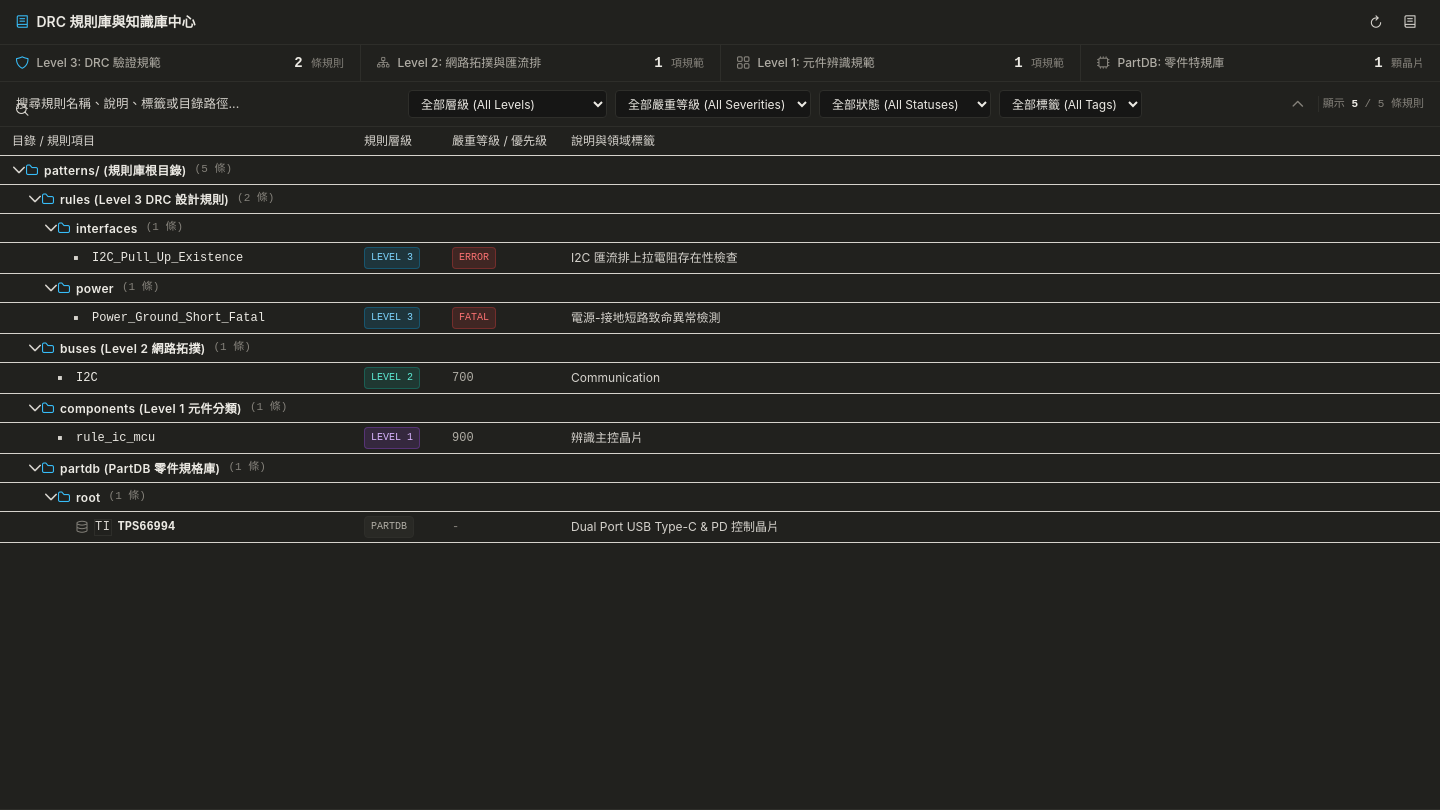
it: RuleManagementView.vue › 支援關鍵字搜尋過濾 Level 3 規則
The width and height of the screenshot is (1440, 810).
Type "Fatal" into the field with class "filter-search-input" at (208, 104), box [16, 96, 400, 112]
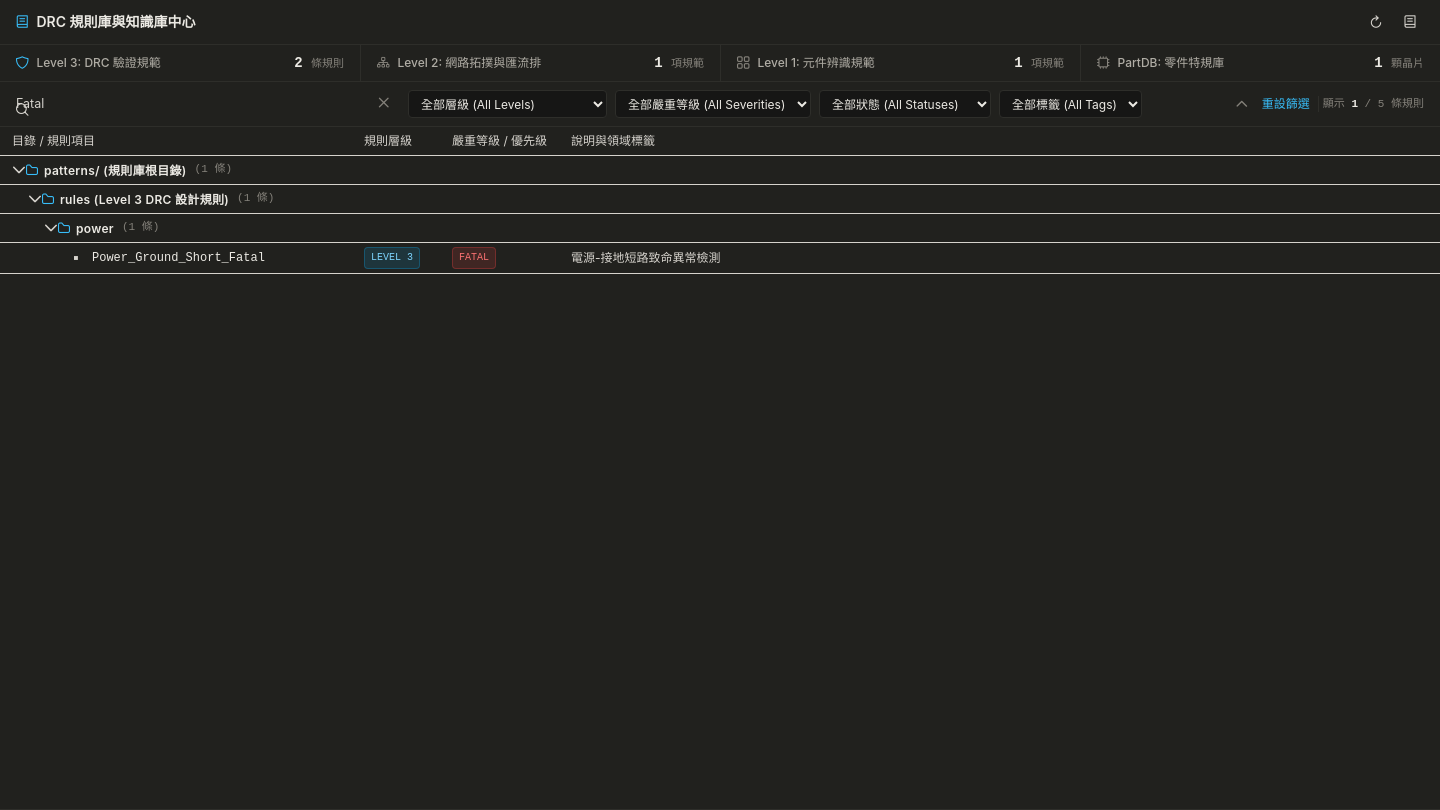
Check: the text "Power_Ground_Short_Fatal" is shown, box [92, 250, 265, 266]
Check: the text "I2C_Pull_Up_Existence" is gone
